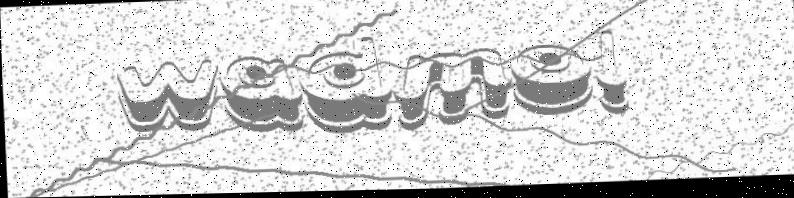a: (218, 56, 303, 132)
d: (299, 37, 391, 135)
l: (593, 32, 627, 117)
m: (392, 49, 512, 132)
o: (510, 46, 592, 118)
w: (116, 59, 219, 132)
